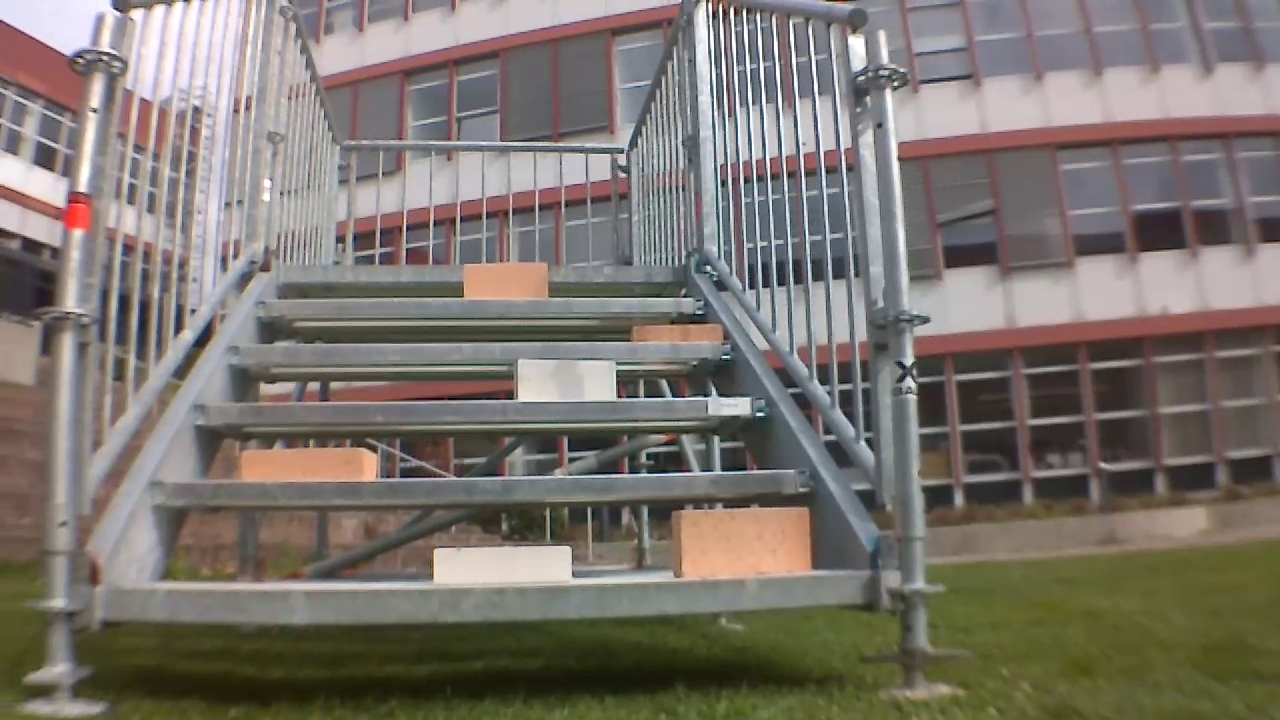brick: (676, 507, 810, 579), (431, 548, 578, 584), (241, 445, 375, 482), (507, 361, 618, 399), (460, 267, 544, 299), (630, 321, 726, 345)
edge: (106, 569, 872, 621), (148, 466, 810, 510), (194, 392, 766, 433), (221, 341, 738, 370), (256, 294, 710, 324), (275, 263, 683, 285)
stairs: (68, 0, 922, 650)
steps: (94, 263, 869, 622)
